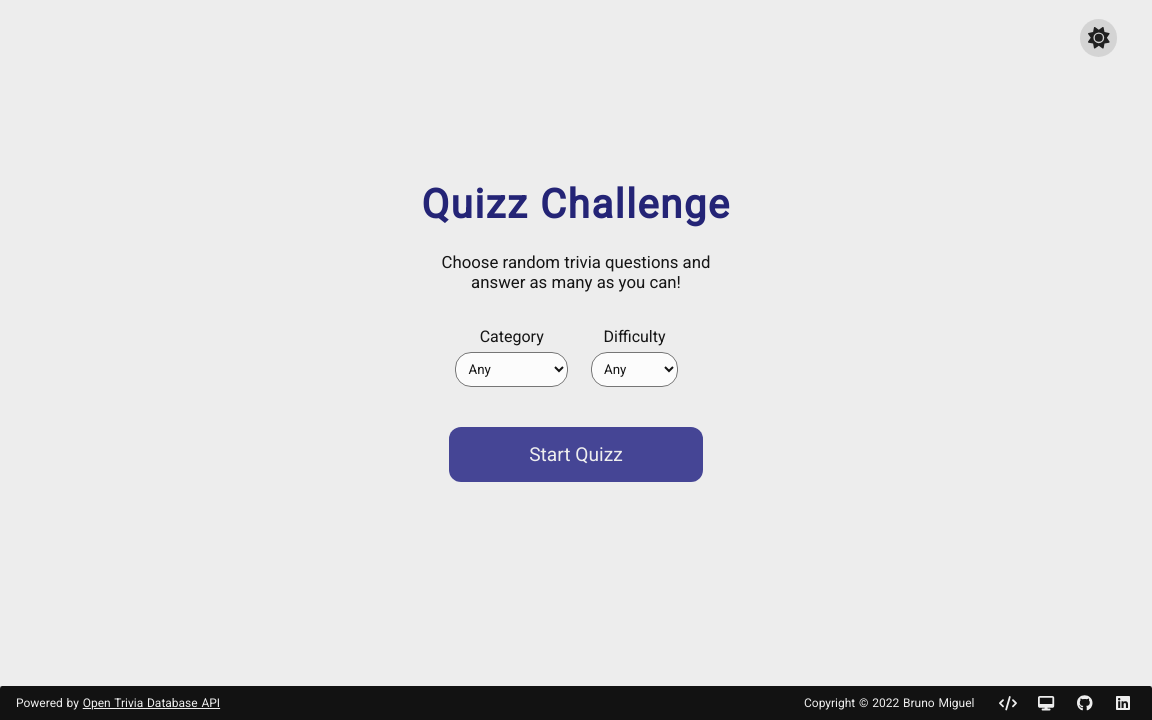
Test: quizz game page should receive questions of category 1 and any difficulty
This screenshot has width=1152, height=720.
Select "CategoryTest1" in the dropdown labelled "Category". click: (512, 369)
box: 455,352 -> 568,387
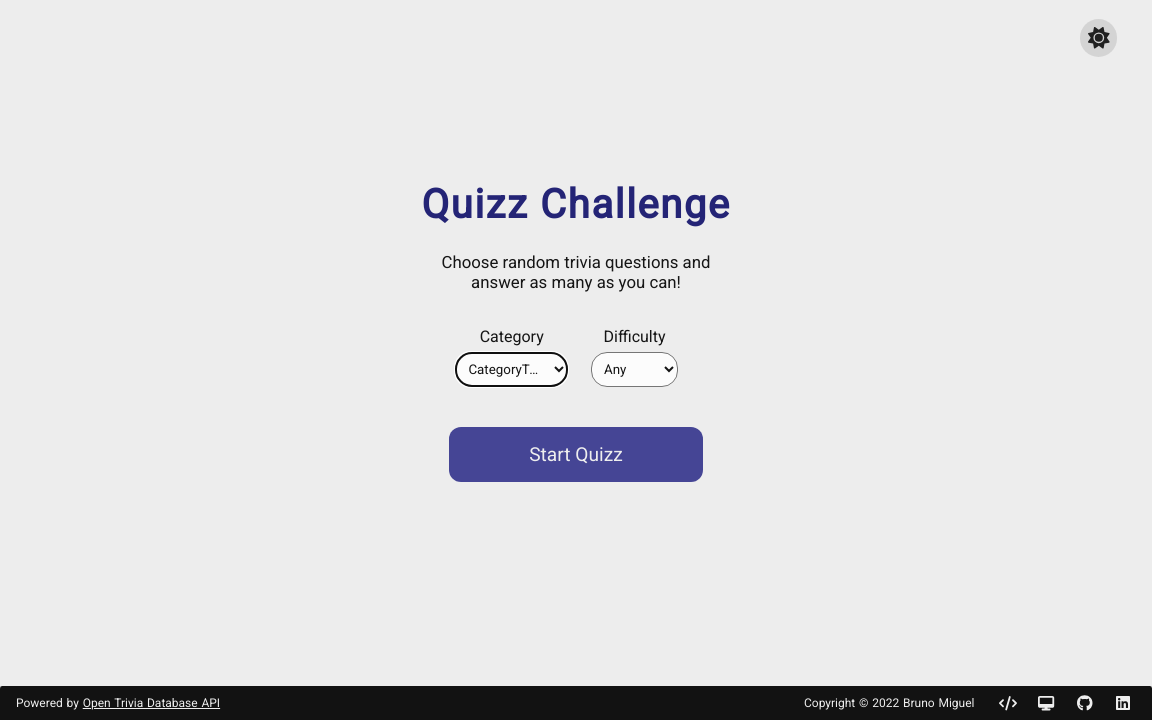
Select "Any" in the dropdown labelled "Difficulty". click: (635, 369)
box: 591,352 -> 678,387
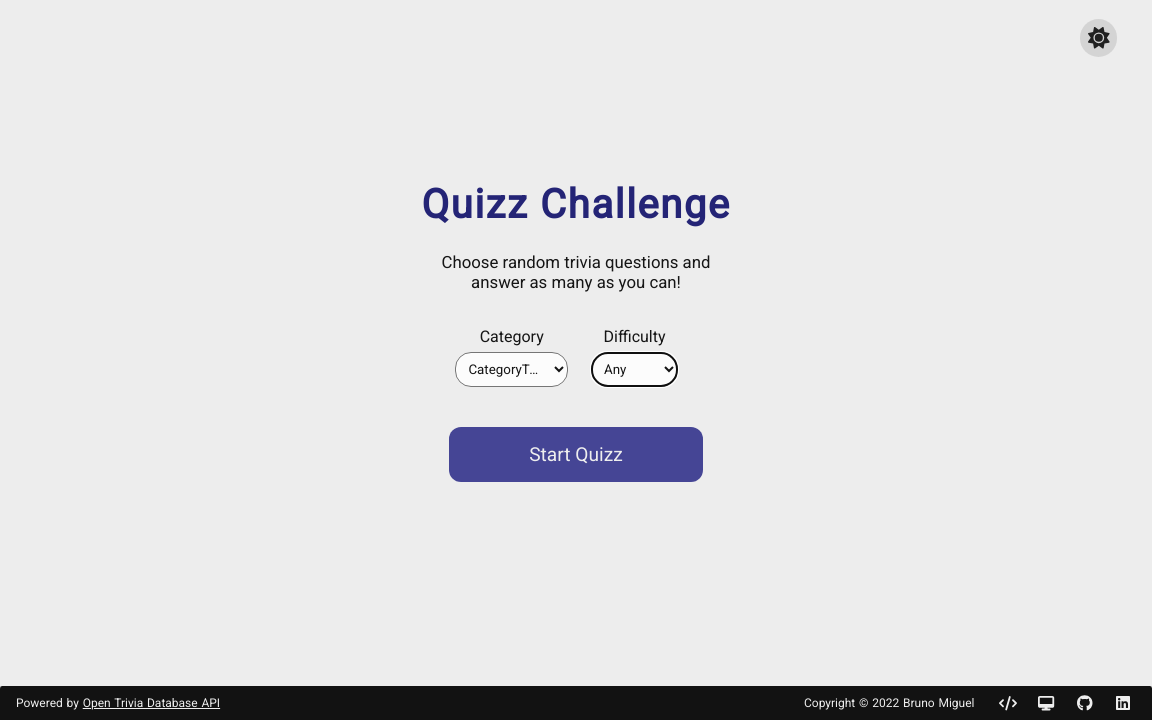
Click the button "Start Quizz". click: (576, 454)
box: 449,427 -> 703,482
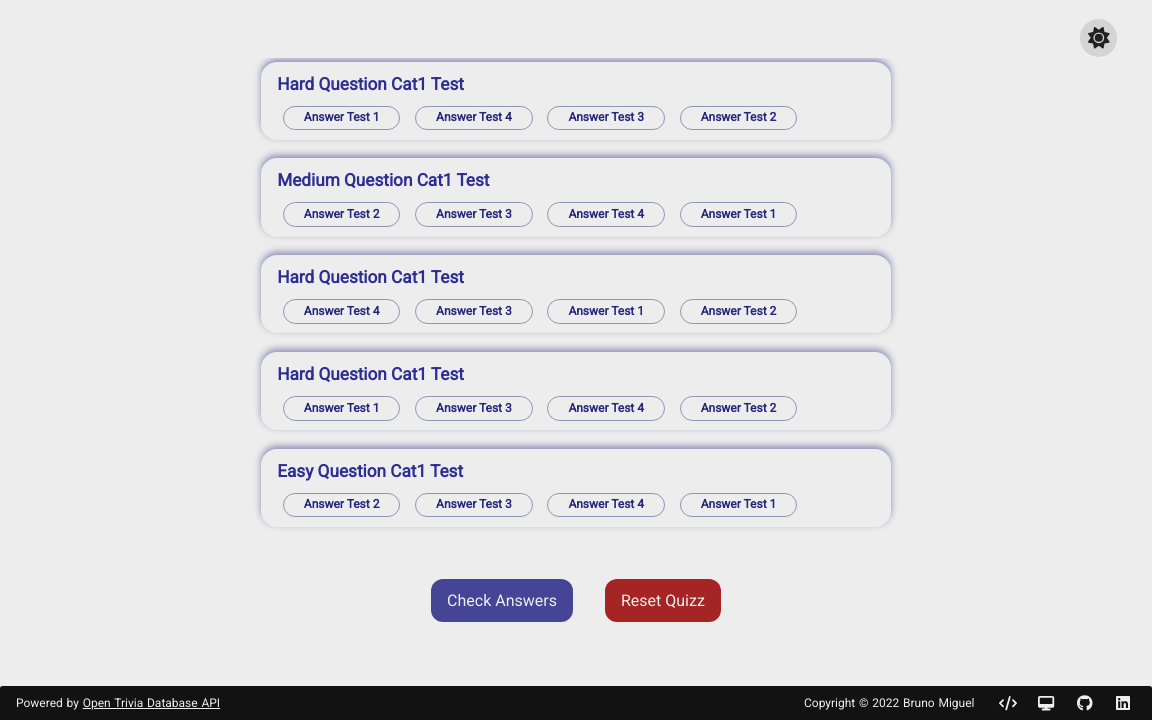
Result: the number of headings "Hard Question Cat1 Test" is 5 at 277,74 -> 464,94; 277,170 -> 489,190; 277,267 -> 464,287; 277,364 -> 464,384; 277,461 -> 463,481
